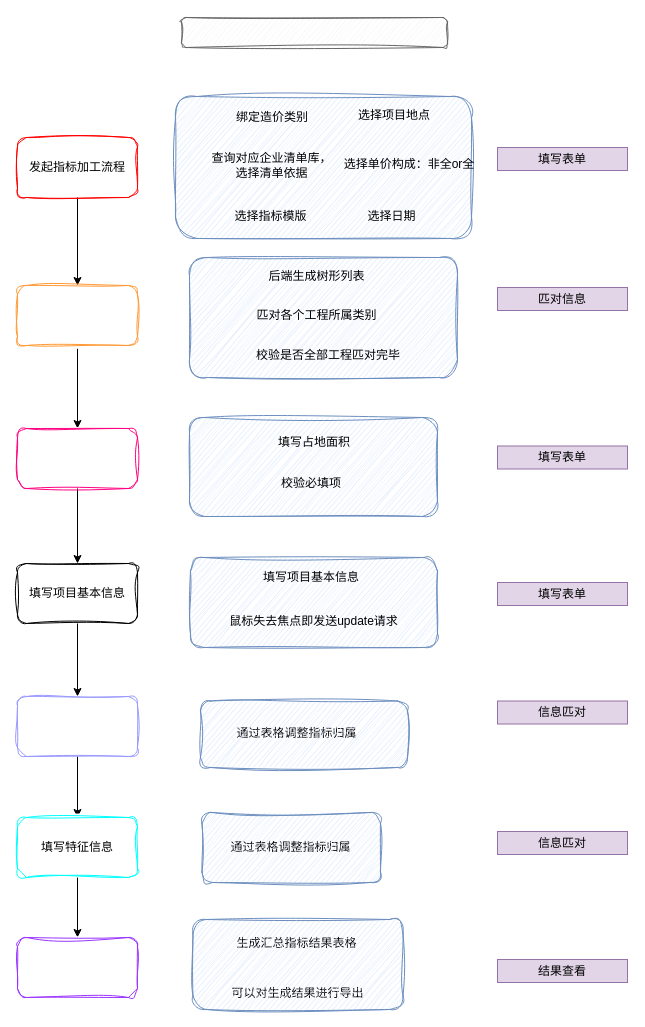
Image size: 645x1027. Some labels were removed from this diagram. The shapes that lost their labels are listed below. From the top down, each one's box as (x1, y1, x2, y2) in pixels, then its label:
(180, 16, 448, 48): 指标加工流程图
(16, 284, 138, 346): 调整项目组成
(16, 428, 138, 488): 填写项目占地面积
(16, 696, 138, 756): 调整指标归属
(16, 936, 138, 998): 查看指标
